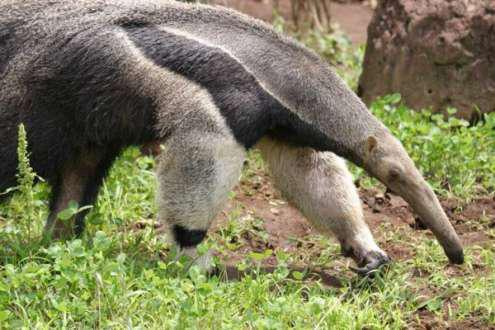TamanduaBandeira: (4, 3, 471, 283)
